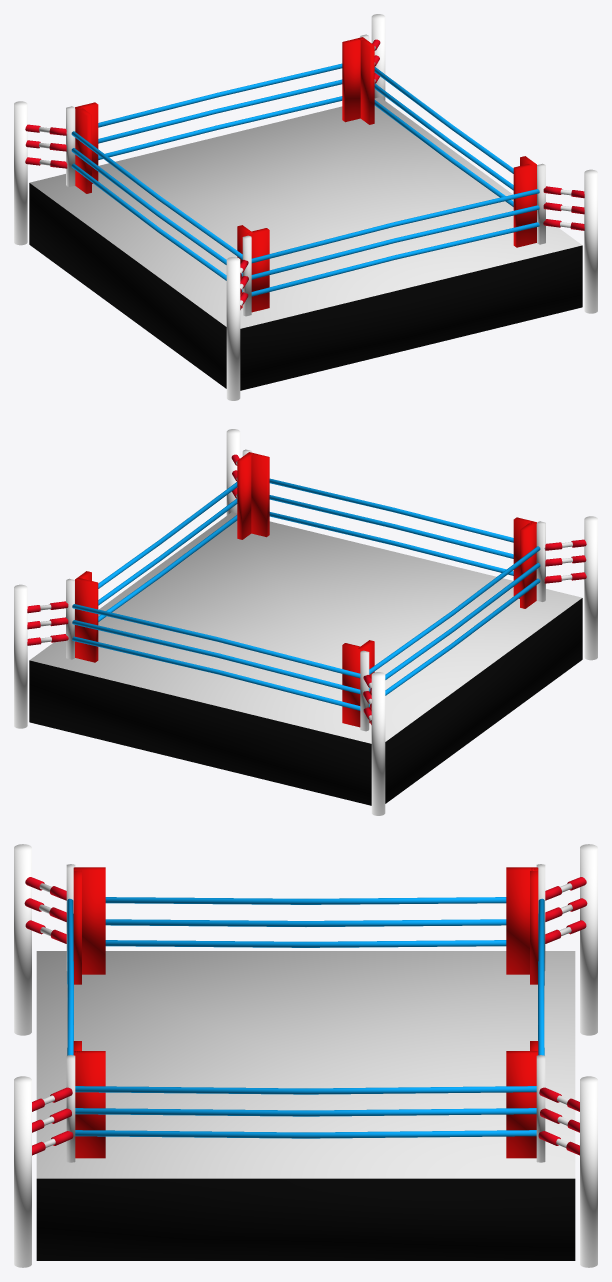
File: BOXING RING.fbx
3 views of the same model, one above another, from view 1: azimuth 30°, elevation 25°; view 2: azimuth 150°, elevation 25°; view 3: azimuth 270°, elevation 25° (orthographic). The views are drawn at different scales.
Visible parts, largest first — view 1: Boxing Ring; view 2: Boxing Ring; view 3: Boxing Ring.
Part boxes in pixels (x1=…): Boxing Ring: x1=14, y1=14, x2=597, y2=400; Boxing Ring: x1=14, y1=429, x2=597, y2=815; Boxing Ring: x1=14, y1=844, x2=597, y2=1267.
Size of the model in its own units: 930 by 338 by 957.
